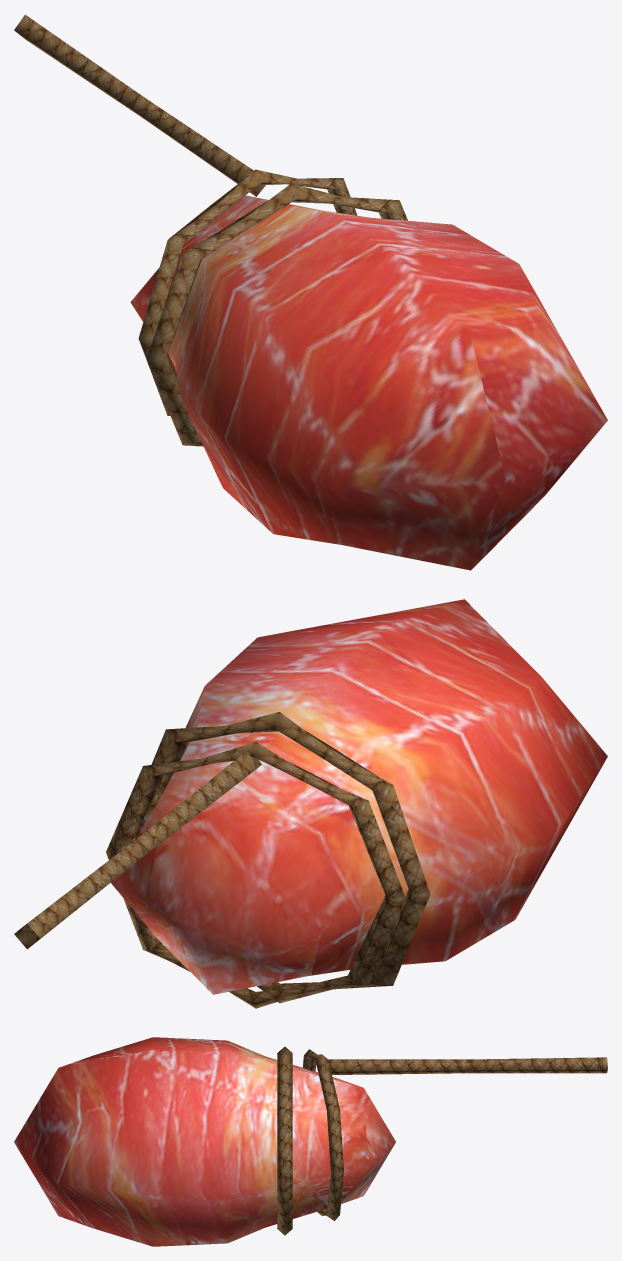
The model's file is meat3.FBX.
3 renders of one model, top to bottom at view 1: azimuth 30°, elevation 25°; view 2: azimuth 150°, elevation 25°; view 3: azimuth 270°, elevation 25°, orthographic. The views are drawn at different scales.
Parts seen in each view (by area): view 1: Object430; view 2: Object430; view 3: Object430.
Boxes of the visible parts, x1=… form: Object430: x1=14, y1=14, x2=607, y2=570; Object430: x1=14, y1=599, x2=607, y2=1008; Object430: x1=14, y1=1037, x2=607, y2=1246.
Size of the model in its own units: 96.95 by 232 by 78.89.
